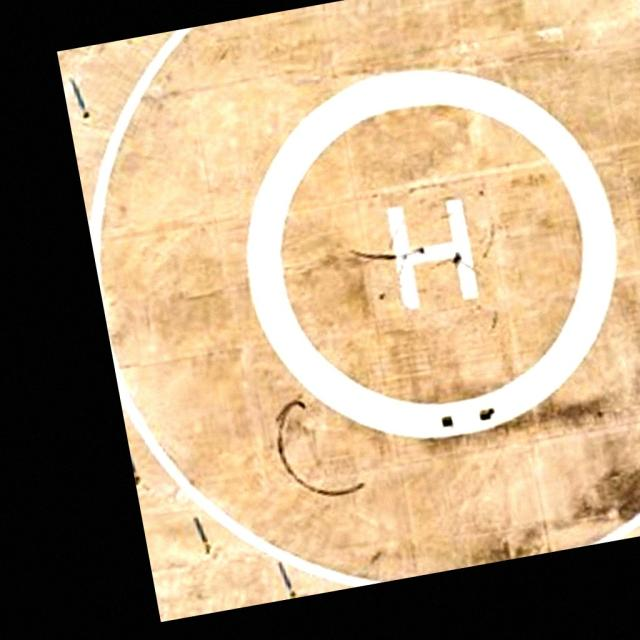helipad: (239, 62, 624, 444)
